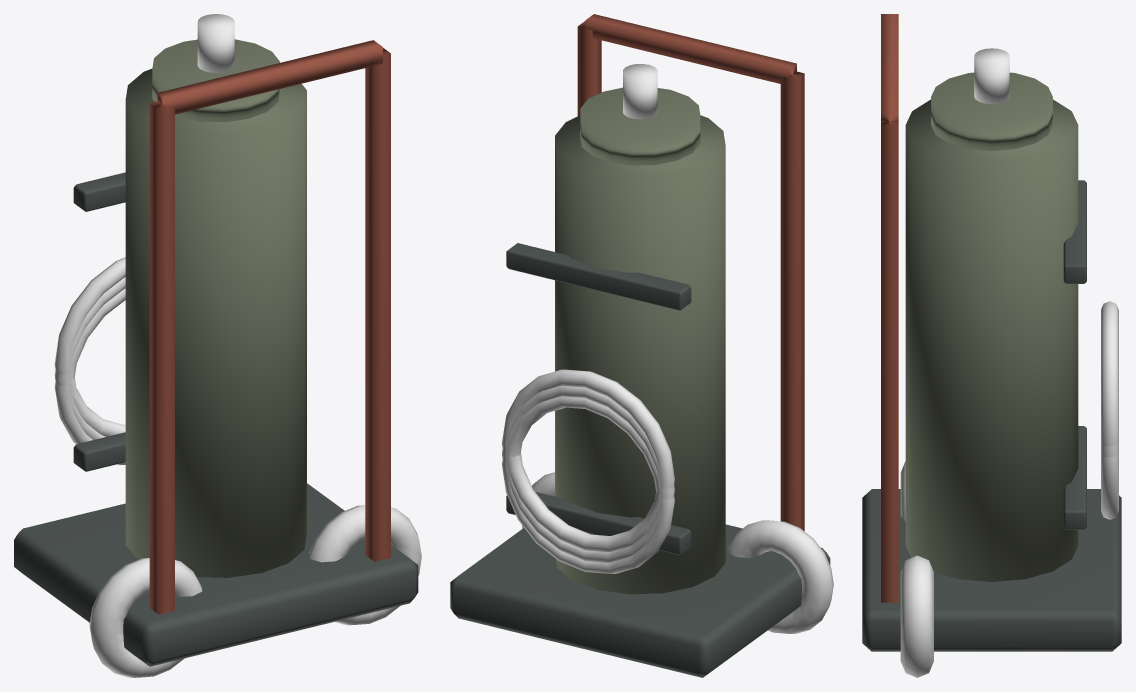
The model's file is WeldingTrolley62.fbx.
3 views of the same model, side by side, from view 1: azimuth 30°, elevation 25°; view 2: azimuth 150°, elevation 25°; view 3: azimuth 270°, elevation 25° (orthographic). The views are drawn at different scales.
Parts seen in each view (by area): view 1: WeldingTrolley62; view 2: WeldingTrolley62; view 3: WeldingTrolley62.
Boxes of the visible parts, x1,y1,x2,y2 form: WeldingTrolley62: [14, 14, 421, 677]; WeldingTrolley62: [450, 14, 833, 677]; WeldingTrolley62: [862, 14, 1121, 677].
Bounding box in the file's own units: 91.4 × 159 × 66.
